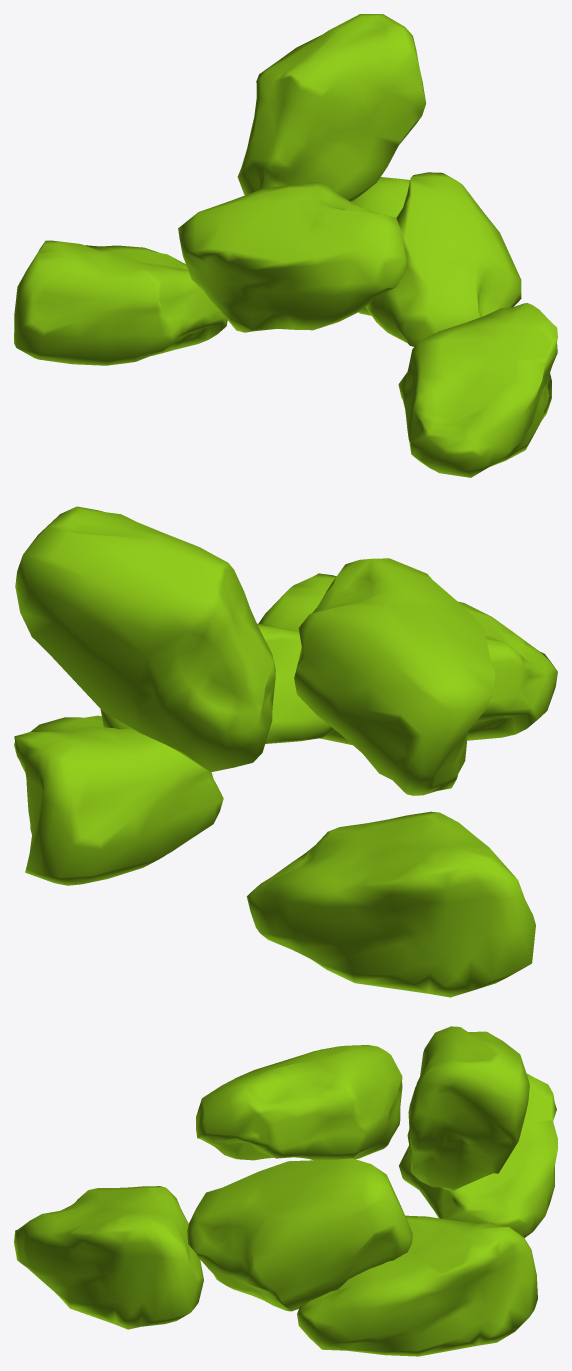
Rendered from Floor_Rock_Pile_02B_Lod0.fbx.
3 renders of one model, top to bottom at view 1: azimuth 30°, elevation 25°; view 2: azimuth 150°, elevation 25°; view 3: azimuth 270°, elevation 25°, orthographic. The views are drawn at different scales.
Visible parts, largest first — view 1: Floor_Rock_Pile_02B_Lod0; view 2: Floor_Rock_Pile_02B_Lod0; view 3: Floor_Rock_Pile_02B_Lod0.
Part boxes in pixels (x1,y1,x2,y2): Floor_Rock_Pile_02B_Lod0: (14, 14, 557, 477); Floor_Rock_Pile_02B_Lod0: (14, 506, 557, 997); Floor_Rock_Pile_02B_Lod0: (14, 1026, 557, 1356).
Bounding box in the file's own units: 427 × 263 × 465.
